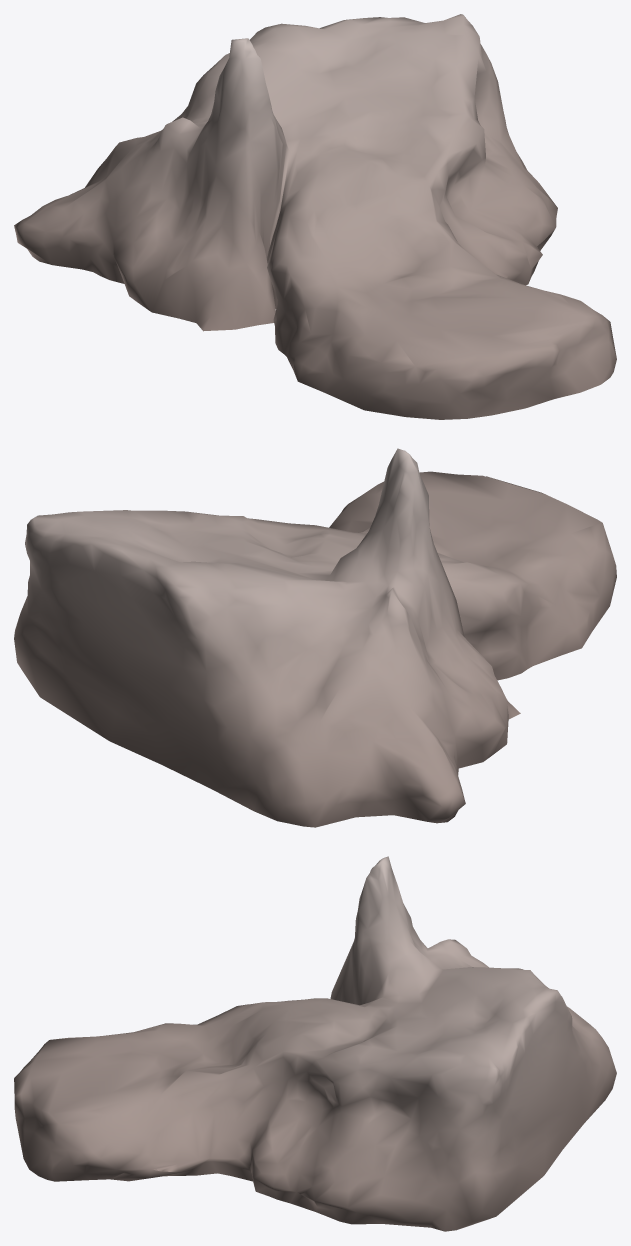
File: mountain_003.glb
3 renders of one model, top to bottom at view 1: azimuth 30°, elevation 25°; view 2: azimuth 150°, elevation 25°; view 3: azimuth 270°, elevation 25°, orthographic. The views are drawn at different scales.
Parts seen in each view (by area): view 1: mountain_003; view 2: mountain_003; view 3: mountain_003.
Part boxes in pixels (x1,y1,x2,y2): mountain_003: (14,14,616,419); mountain_003: (14,448,616,827); mountain_003: (14,856,616,1231).
Size of the model in its own units: 27.39 by 14.65 by 34.36.
Materials: 1 (1 with a texture image).
